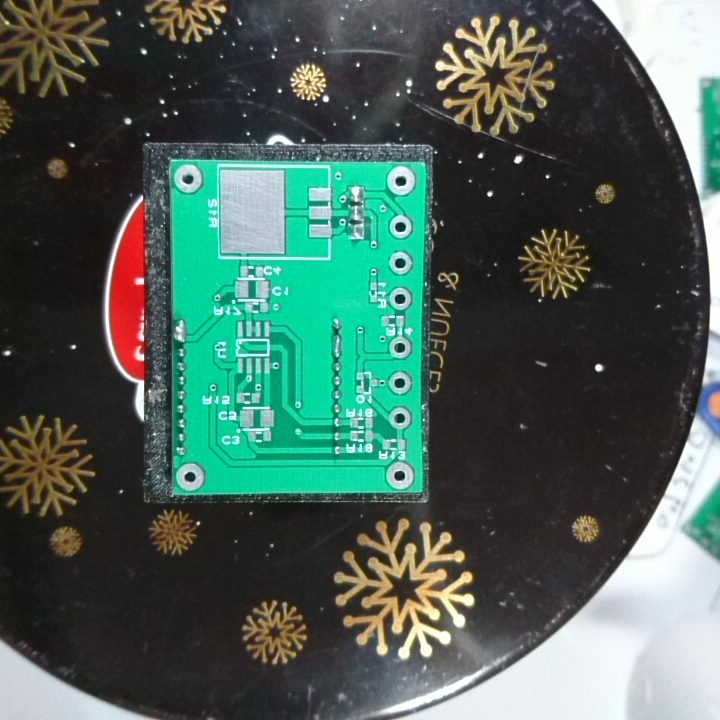F: (174, 460, 208, 494), (173, 162, 205, 196), (385, 164, 417, 197), (384, 459, 417, 491), (385, 249, 417, 277), (386, 370, 415, 398), (388, 213, 416, 240), (387, 284, 414, 311), (386, 334, 413, 360), (387, 406, 414, 430)
P: (172, 315, 189, 344), (330, 331, 345, 358)
